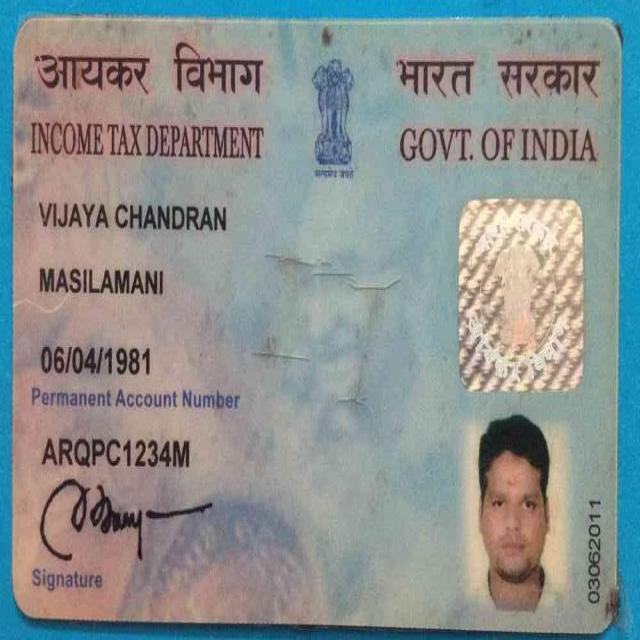pan_card: (15, 17, 618, 624)
